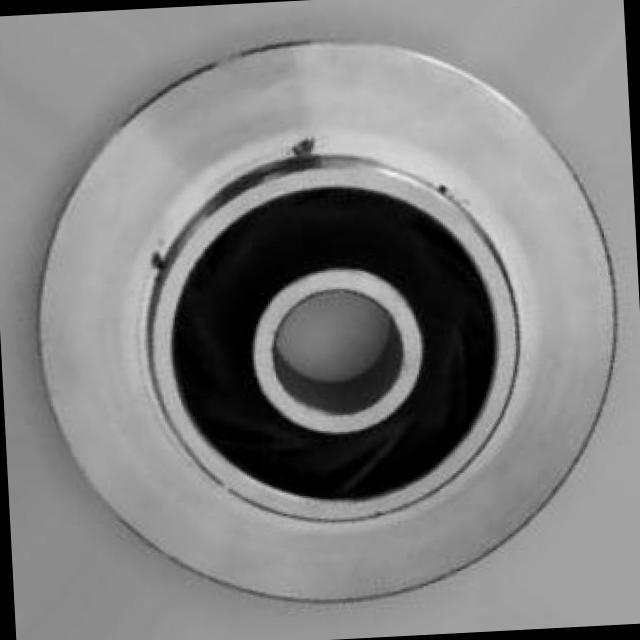Defect: (288, 132, 326, 158)
